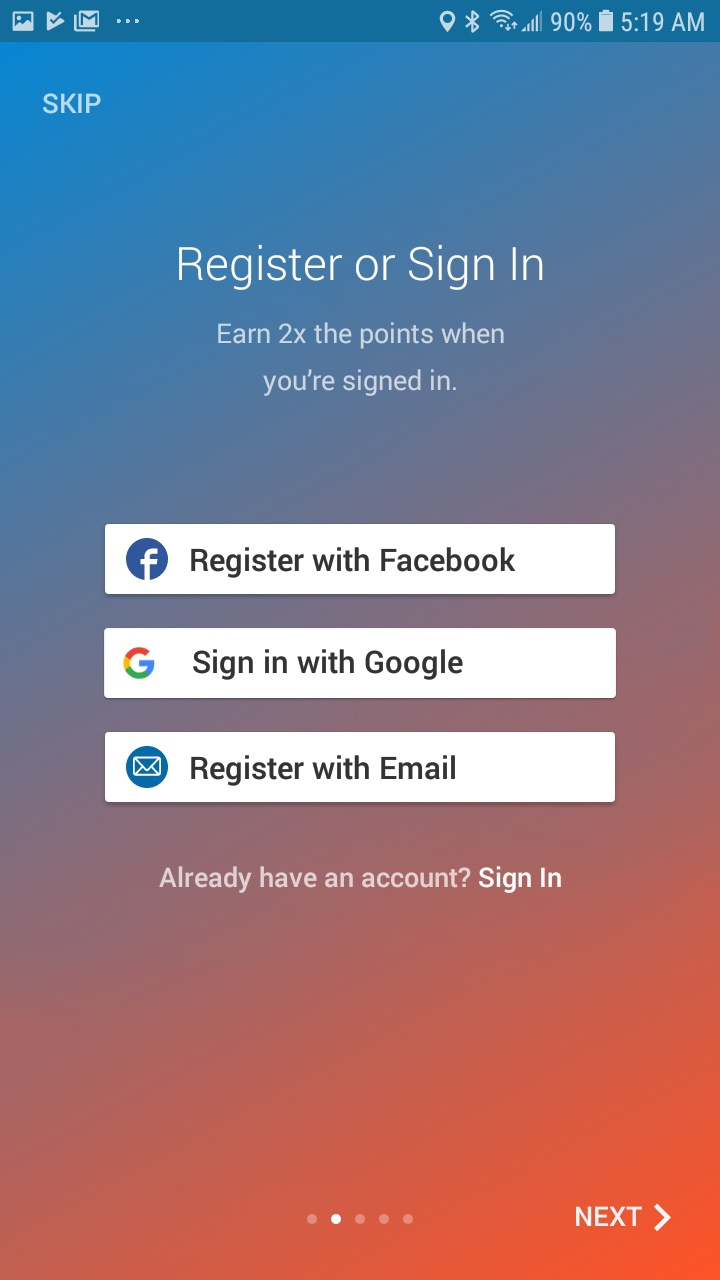Icon: (653, 1202, 672, 1232)
PageIndicator: (307, 1213, 415, 1225)
Text: (218, 322, 505, 398), (178, 245, 543, 292), (159, 865, 562, 894), (576, 1205, 643, 1227), (43, 93, 102, 115)
TextButton: (105, 628, 617, 699), (105, 524, 616, 595), (106, 732, 616, 803)
UpperTaskBar: (1, 1, 720, 43)
